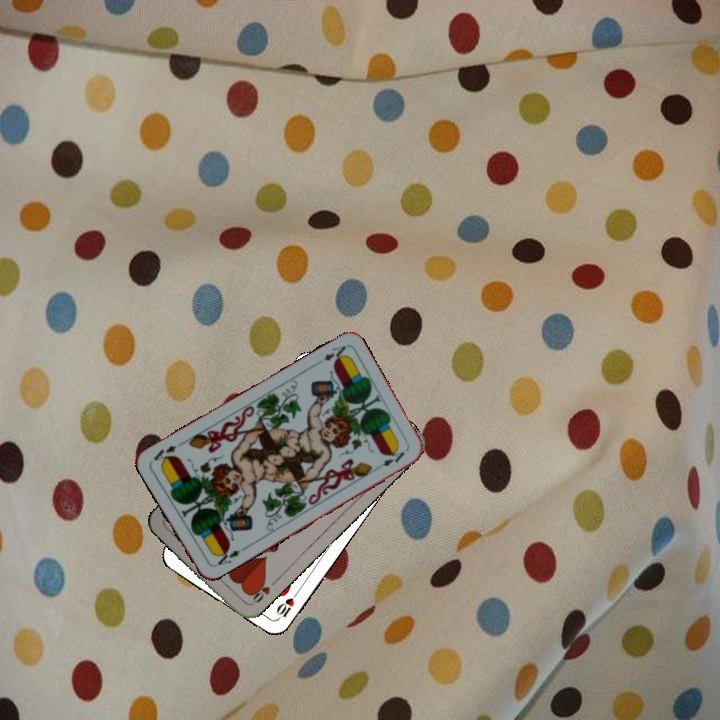EA: (211, 543, 248, 568), (320, 341, 349, 366)
H10: (272, 588, 300, 623)
HO: (246, 576, 280, 608)
